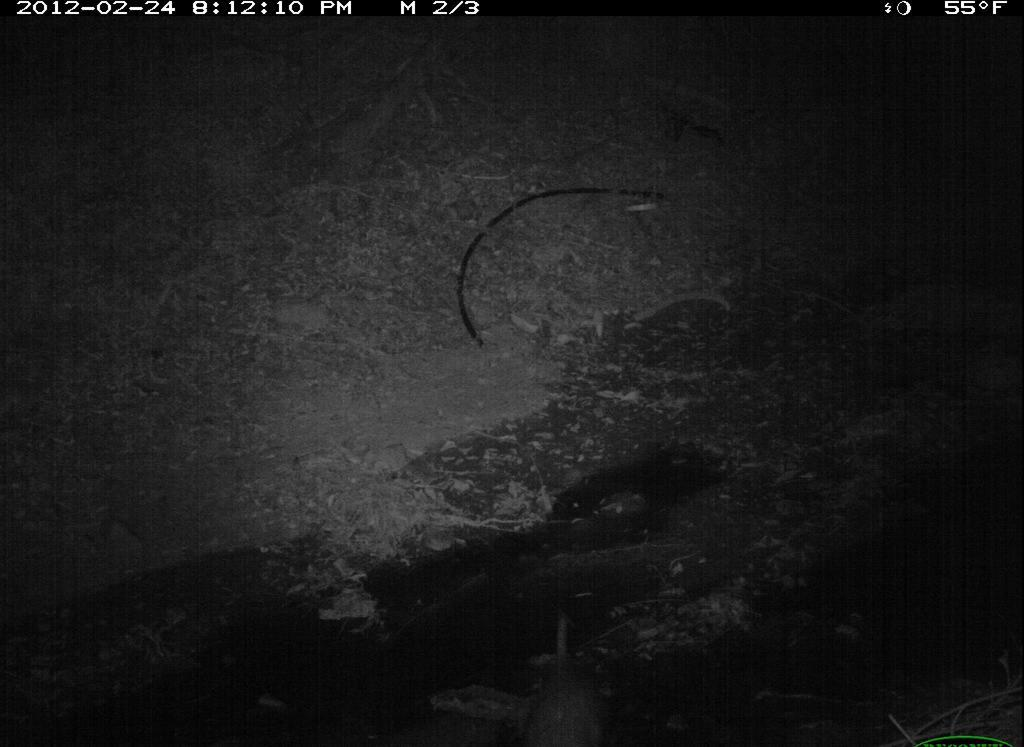opossum: (515, 604, 622, 747)
